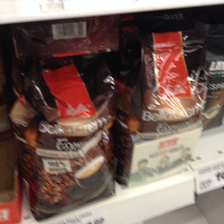coffee: (13, 61, 117, 223), (116, 38, 206, 187)
